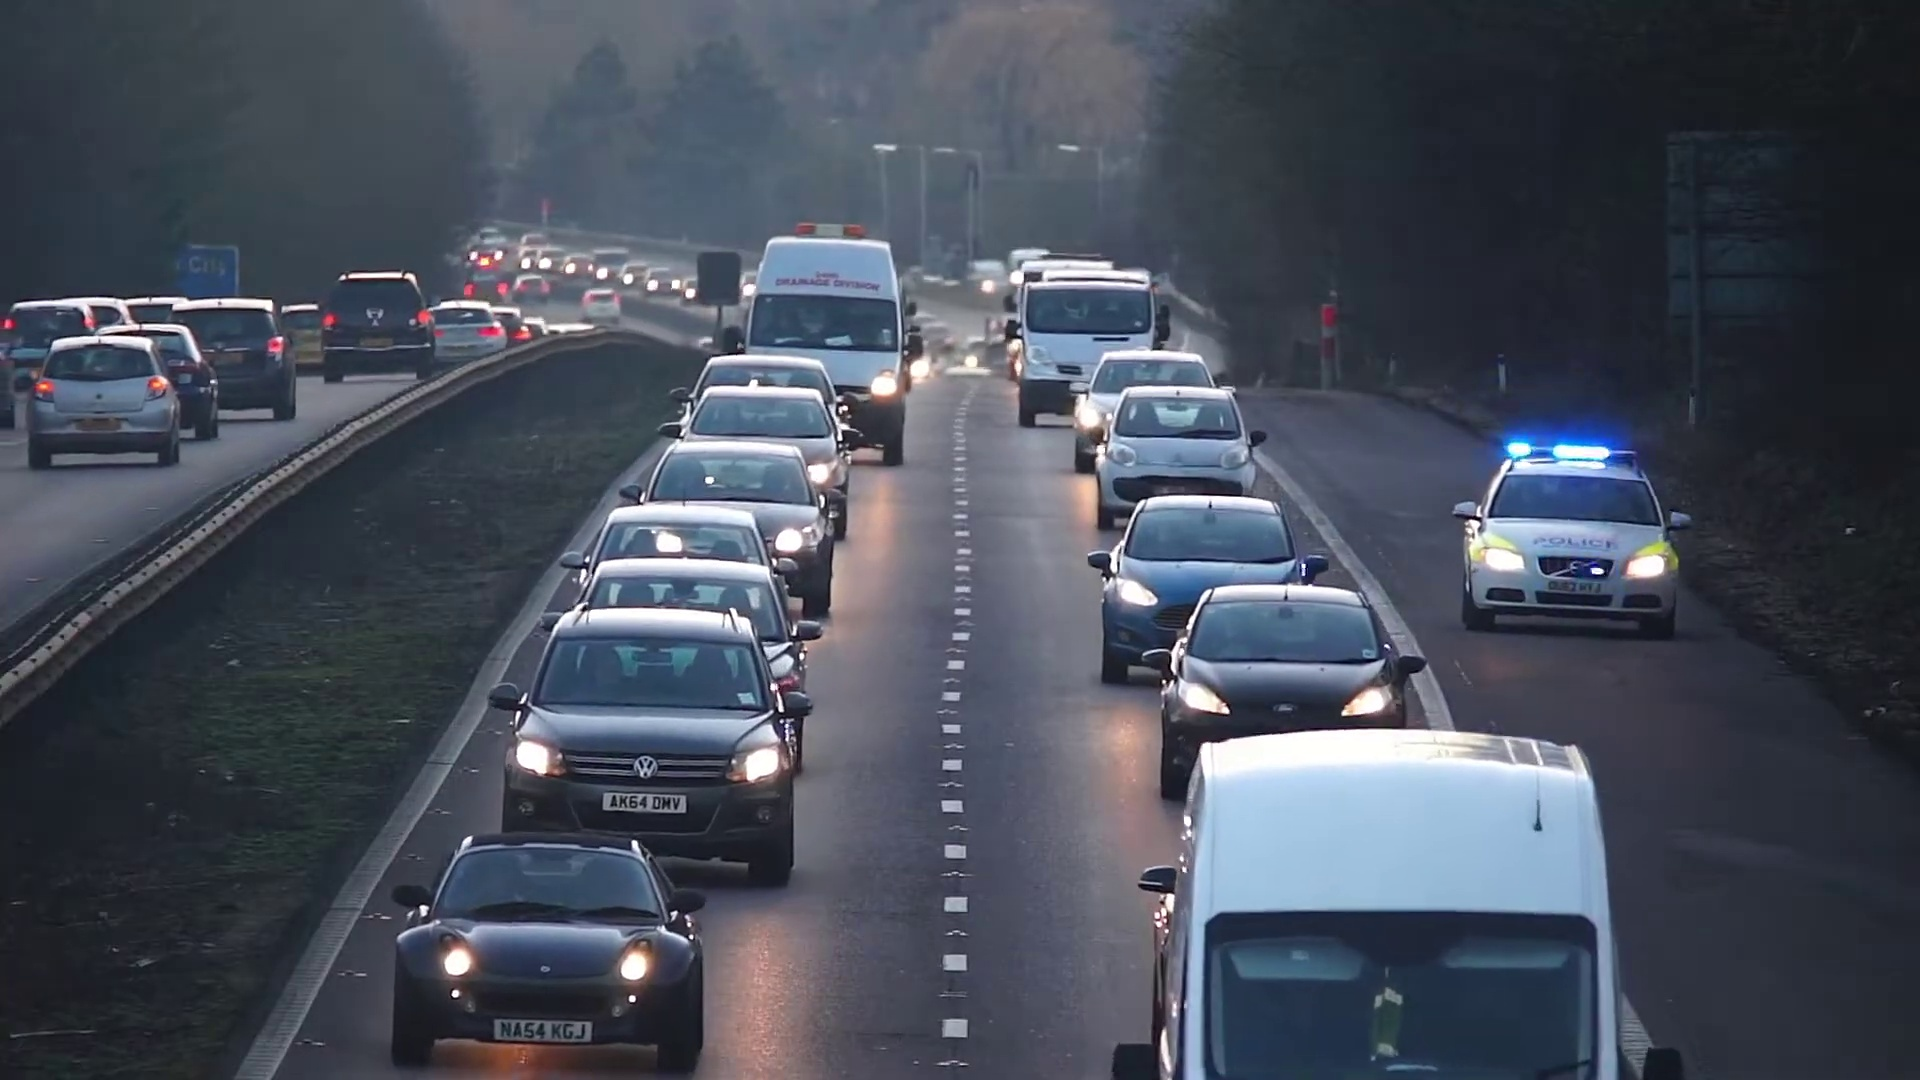license_plate: (493, 1020, 591, 1046), (599, 790, 687, 817)
